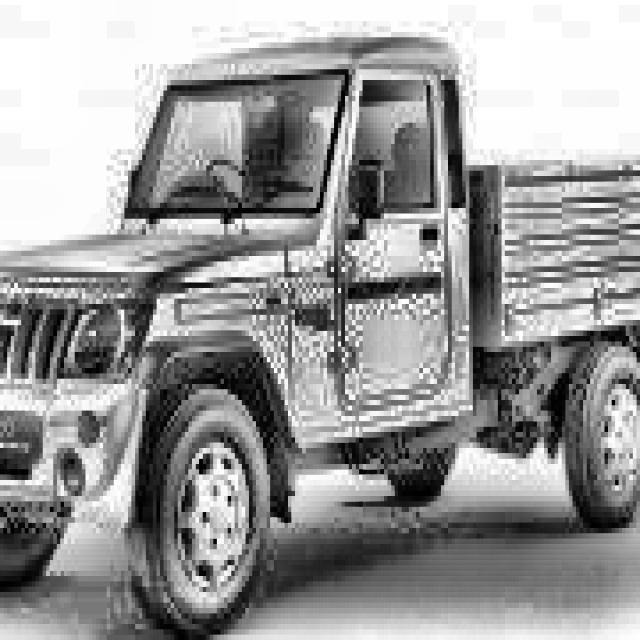light_vehicle: (0, 37, 640, 624)
